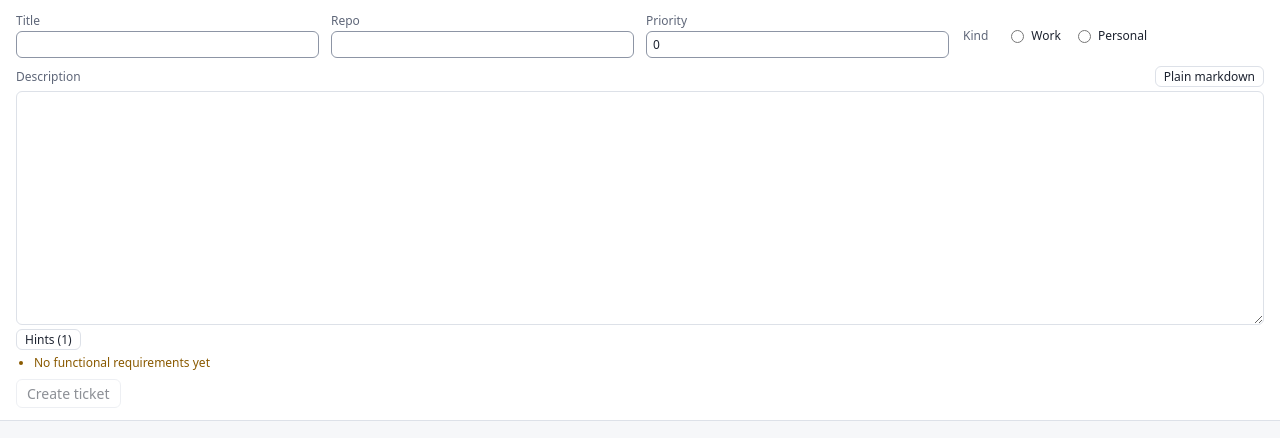
CreateTicketForm (ADR-0010, ADR-0011) › can't submit without a Work / Personal choice
The image size is (1280, 438).
Type "Fix the login bug" into the field labelled "Title" at point(168, 44), box [16,31,319,58]
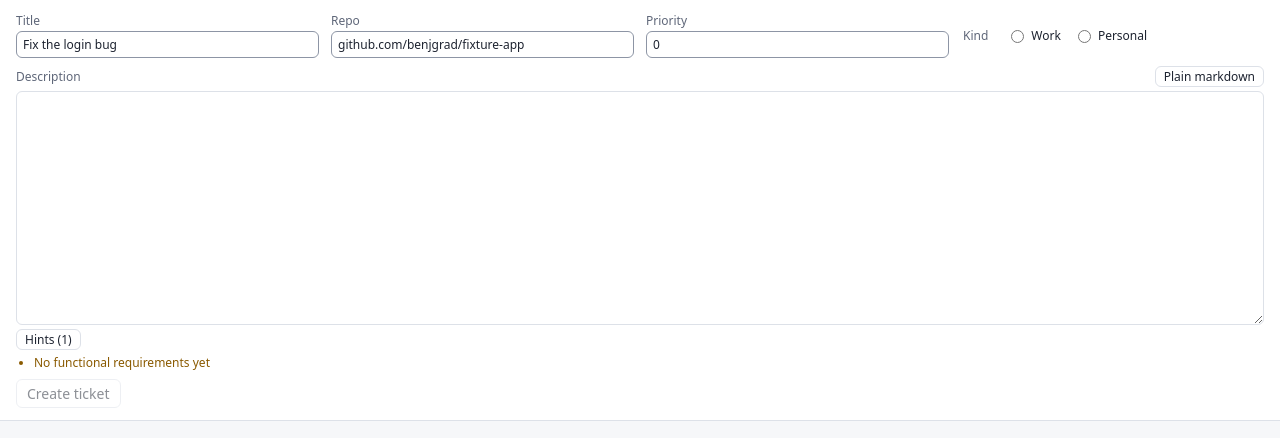
Expected: the button "Create ticket" is disabled, [16,379,120,408]
Expected: the dropdown labelled "Repo" is not empty, [331,31,634,58]
Submit the form named "Create ticket"
Click the radio button labelled "Work" at point(1018, 36), box [1011,30,1024,43]
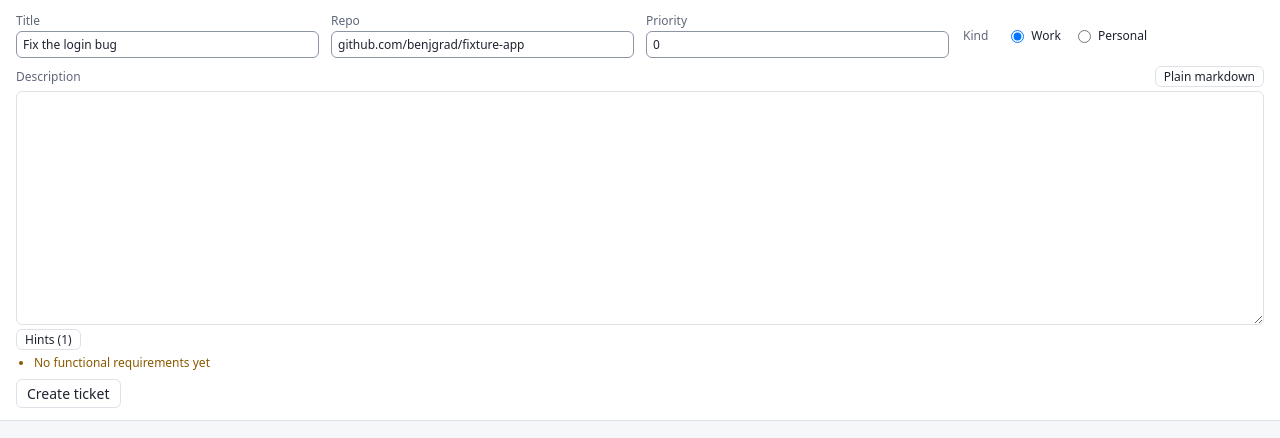
Expected: the button "Create ticket" is enabled, [16,379,120,408]
